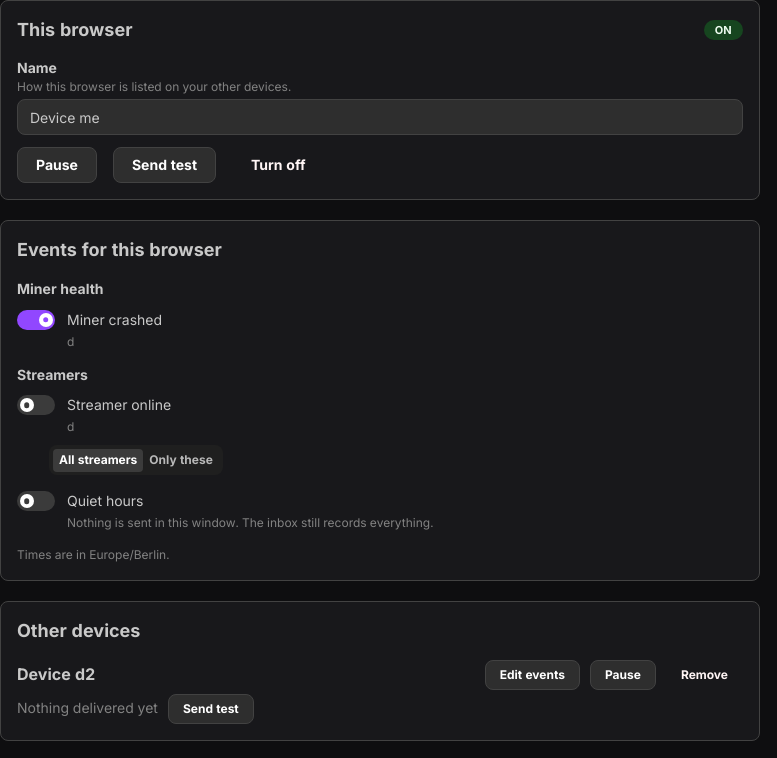
Test case: editing another device's events switches the editor to it
Step 1. Click the button "Edit events" → x=532, y=675, box [485,660,580,690]
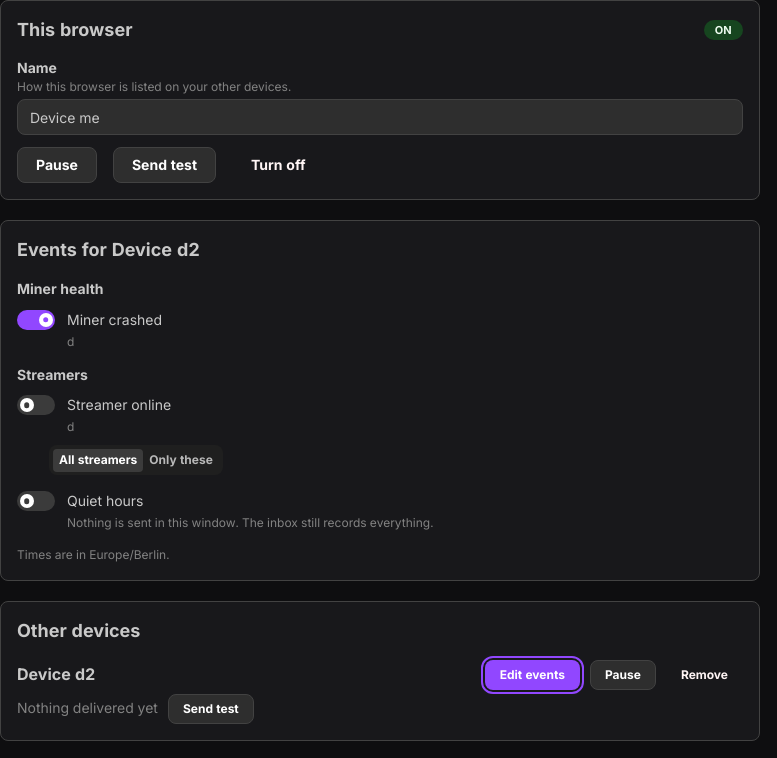
Now the heading "Events for Device d2" is shown, box [17,239,200,260]
